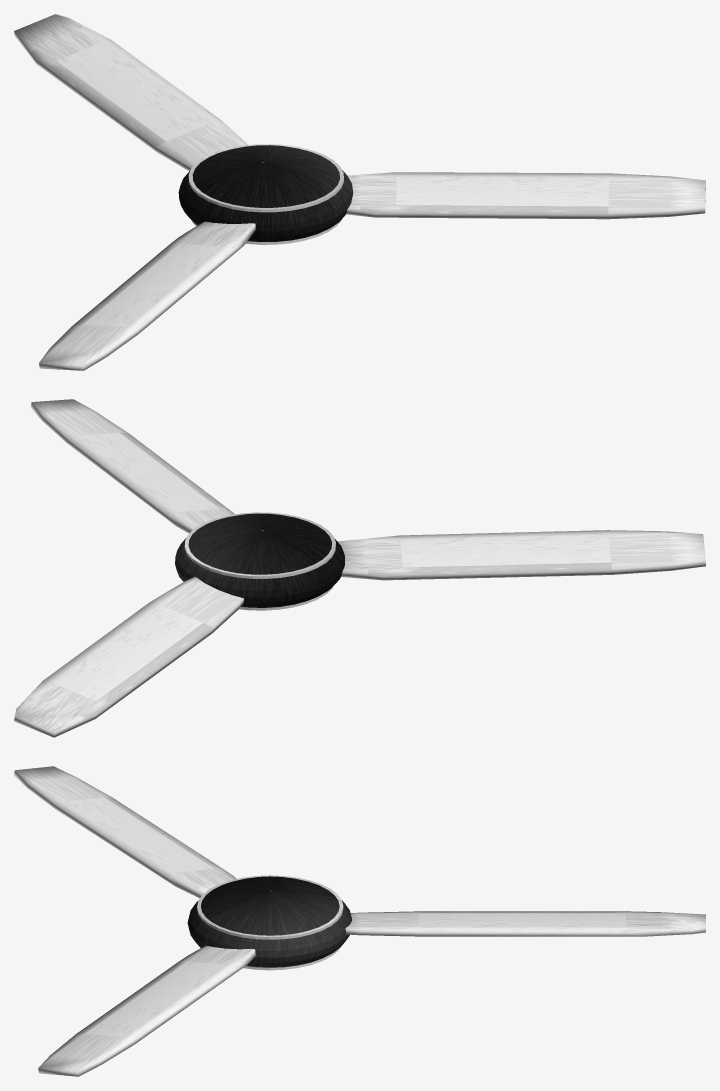
File: ceiling_fan.obj
3 views of the same model, one above another, from view 1: azimuth 30°, elevation 25°; view 2: azimuth 150°, elevation 25°; view 3: azimuth 270°, elevation 25° (orthographic). The views are drawn at different scales.
Parts seen in each view (by area): view 1: Cube.001_Cube.002, Cube_Cube.001, Sphere, Cube.002_Cube.003, Cylinder; view 2: Cube.002_Cube.003, Cube_Cube.001, Sphere, Cube.001_Cube.002, Cylinder; view 3: Sphere, Cube.001_Cube.002, Cube_Cube.001, Cube.002_Cube.003, Cylinder.
Part boxes in pixels (x1,y1,x2,y2): Cube.001_Cube.002: (346,172,705,219); Cube_Cube.001: (14,14,248,171); Sphere: (178,145,353,241); Cube.002_Cube.003: (39,221,255,370); Cylinder: (188,144,343,244); Cube.002_Cube.003: (337,530,705,580); Cube_Cube.001: (14,577,244,737); Sphere: (175,513,344,607); Cube.001_Cube.002: (30,399,234,533); Cylinder: (184,512,335,610); Sphere: (187,876,351,967); Cube.001_Cube.002: (38,945,256,1076); Cube_Cube.001: (345,911,705,936); Cube.002_Cube.003: (14,766,236,898); Cylinder: (197,875,343,970).
Bounding box in the file's own units: 11.76 × 1.08 × 11.01.
Materials: 2 (2 with a texture image).
